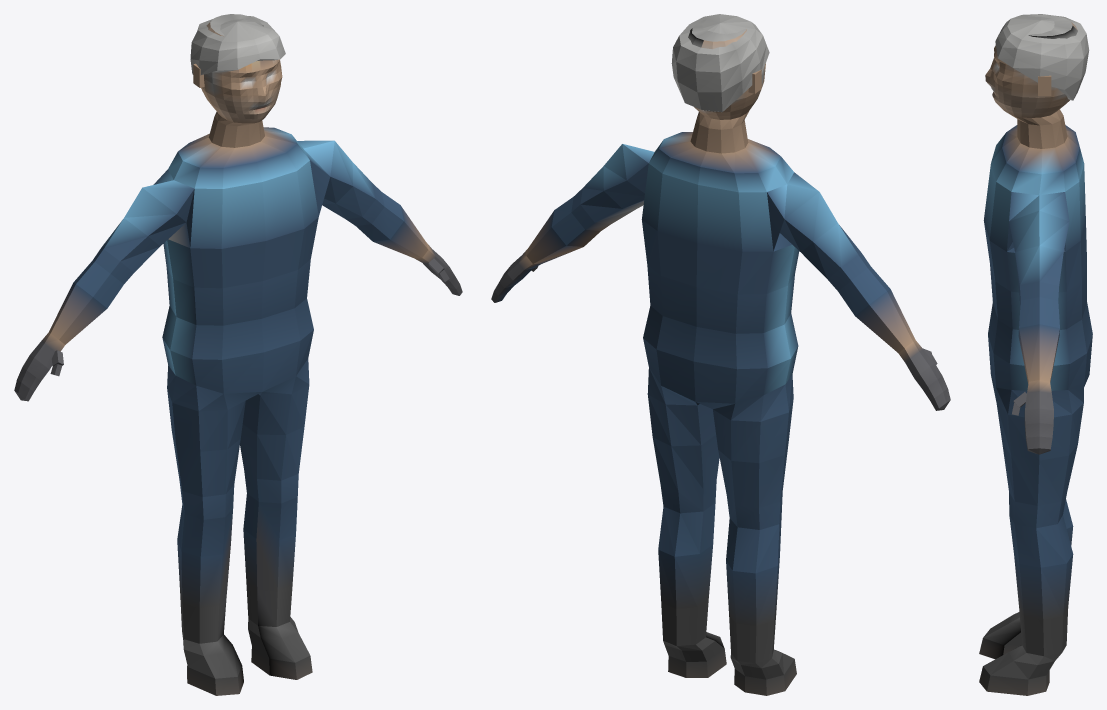
File: char__pessoa__dito.glb
3 renders of one model, left to right at view 1: azimuth 30°, elevation 25°; view 2: azimuth 150°, elevation 25°; view 3: azimuth 270°, elevation 25°, orthographic. The views are drawn at different scales.
Visible parts, largest first — view 1: char__pessoa__dito; view 2: char__pessoa__dito; view 3: char__pessoa__dito.
Boxes of the visible parts, x1,y1,x2,y2 form: char__pessoa__dito: [14, 14, 462, 695]; char__pessoa__dito: [491, 14, 950, 695]; char__pessoa__dito: [979, 14, 1092, 695].
Size of the model in its own units: 1.32 by 1.86 by 0.2942.
